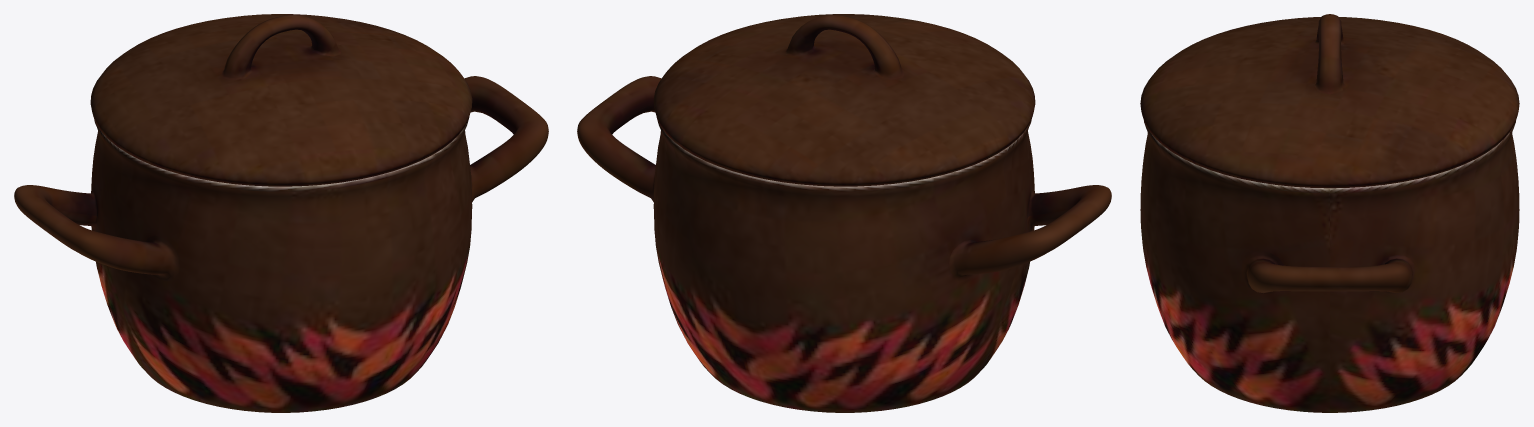
Rendered from pot_enamel_01.gltf.
The picture shows the model from 3 angles, left to right: view 1: azimuth 30°, elevation 25°; view 2: azimuth 150°, elevation 25°; view 3: azimuth 270°, elevation 25°; orthographic projection.
Parts seen in each view (by area): view 1: pot_enamel_01_base, pot_enamel_01_lid; view 2: pot_enamel_01_base, pot_enamel_01_lid; view 3: pot_enamel_01_base, pot_enamel_01_lid.
Part boxes in pixels (x1,y1,x2,y2): pot_enamel_01_base: [14, 76, 548, 412]; pot_enamel_01_lid: [90, 14, 472, 186]; pot_enamel_01_base: [577, 76, 1111, 412]; pot_enamel_01_lid: [653, 14, 1035, 186]; pot_enamel_01_base: [1140, 121, 1519, 412]; pot_enamel_01_lid: [1140, 14, 1519, 188].
Bounding box in the file's own units: 0.2629 × 0.1783 × 0.1805.
